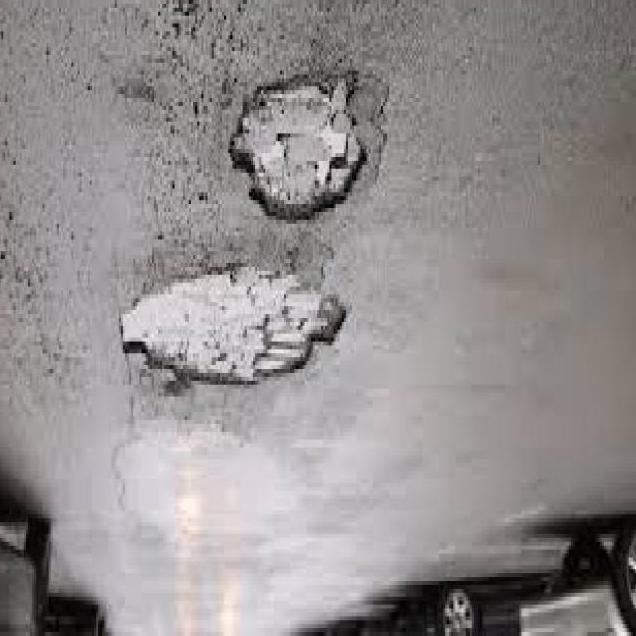pothole: (106, 262, 352, 401), (209, 66, 384, 236)
